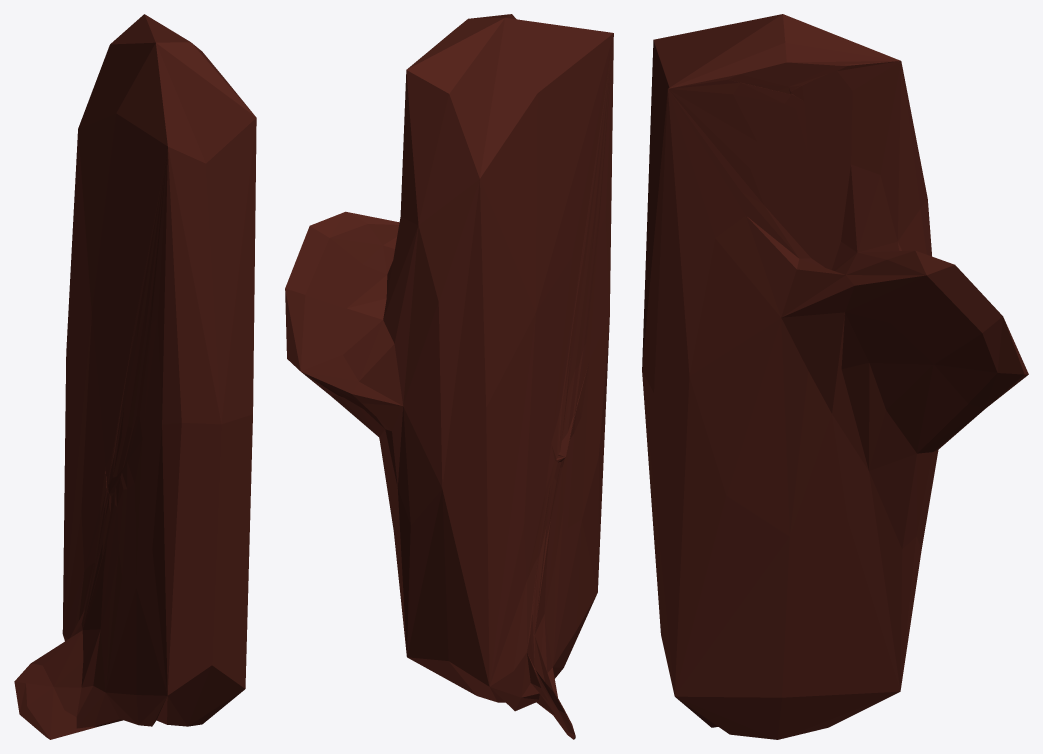
The picture shows the model from 3 angles, left to right: view 1: azimuth 30°, elevation 25°; view 2: azimuth 150°, elevation 25°; view 3: azimuth 270°, elevation 25°; orthographic projection. The views are drawn at different scales.
Parts seen in each view (by area): view 1: 316_Cube.1292; view 2: 316_Cube.1292; view 3: 316_Cube.1292.
Part boxes in pixels (x1,y1,x2,y2): 316_Cube.1292: (14, 14, 256, 739); 316_Cube.1292: (285, 14, 613, 739); 316_Cube.1292: (642, 14, 1028, 739).
Size of the model in its own units: 4.2 by 12.48 by 5.94.
